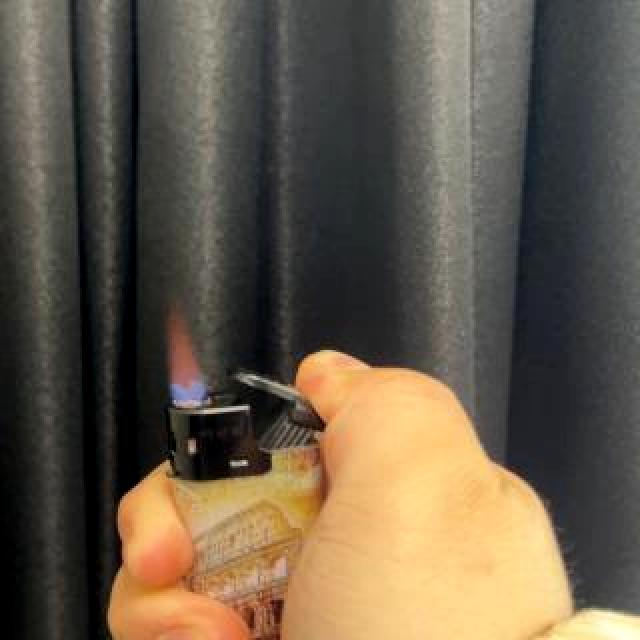fire: (158, 301, 210, 405)
